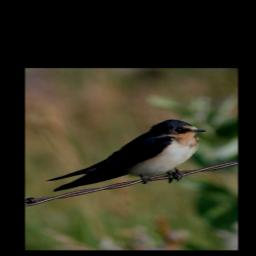Swallow: (46, 117, 208, 195)
